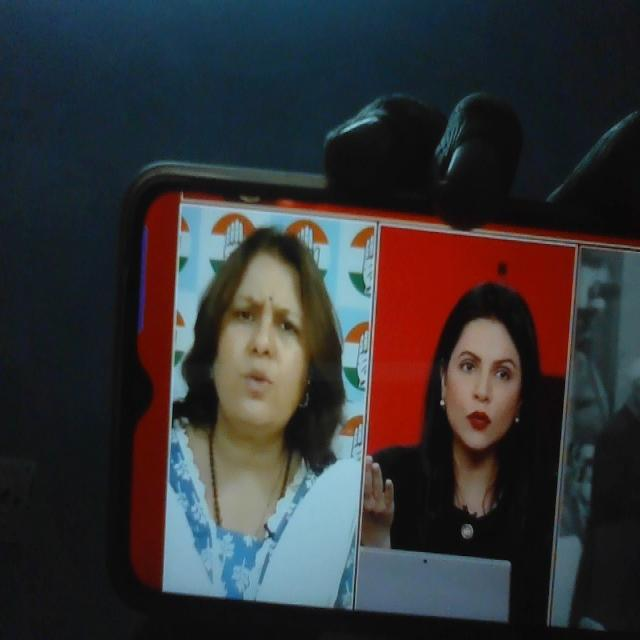fake: (205, 218, 323, 442), (434, 261, 548, 476)
